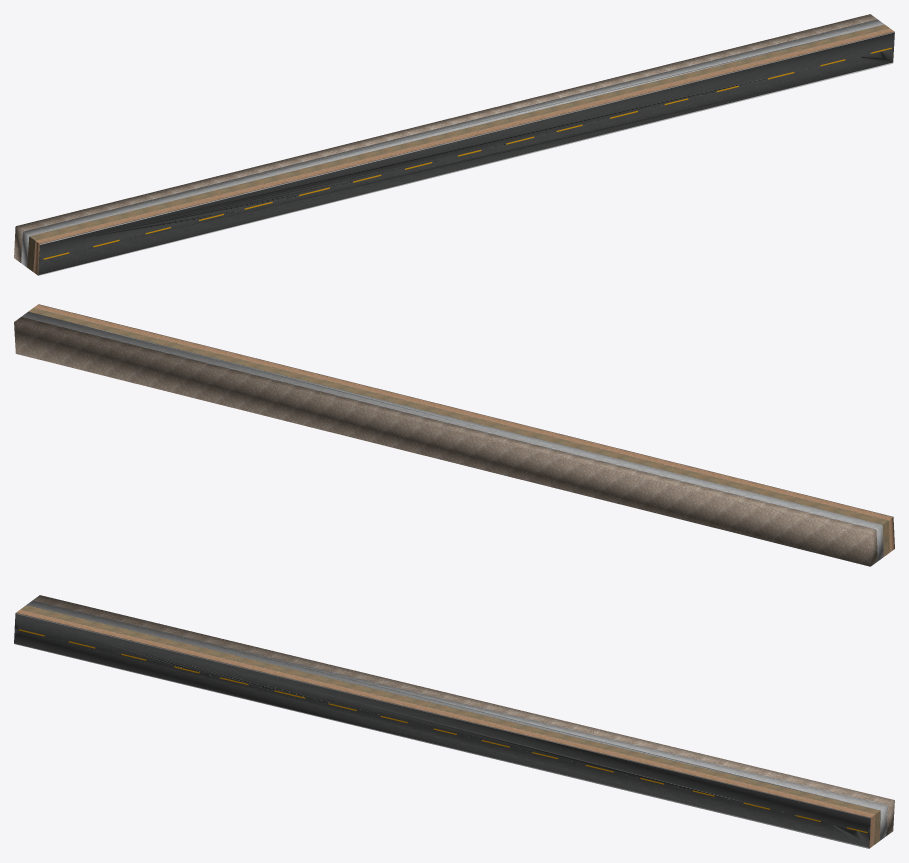
The picture shows the model from 3 angles, top to bottom: view 1: azimuth 30°, elevation 25°; view 2: azimuth 150°, elevation 25°; view 3: azimuth 330°, elevation 25°; orthographic projection.
Visible parts, largest first — view 1: baiyoulu, yunizhinaintu02, fenzhinaintu02, sutiantu02, xingchexianbai, xingchexianhuang; view 2: yunizhinaintu02, fenzhinaintu02, sutiantu02, baiyoulu; view 3: baiyoulu, yunizhinaintu02, fenzhinaintu02, sutiantu02, xingchexianbai, xingchexianhuang.
Part boxes in pixels (left/top/right/bottom): baiyoulu: left=38, top=31, right=894, bottom=275; yunizhinaintu02: left=14, top=14, right=884, bottom=267; fenzhinaintu02: left=27, top=24, right=889, bottom=271; sutiantu02: left=33, top=28, right=894, bottom=275; xingchexianbai: left=38, top=32, right=894, bottom=275; xingchexianhuang: left=43, top=47, right=891, bottom=259; yunizhinaintu02: left=14, top=311, right=883, bottom=566; fenzhinaintu02: left=28, top=308, right=889, bottom=556; sutiantu02: left=33, top=304, right=894, bottom=552; baiyoulu: left=38, top=304, right=894, bottom=548; baiyoulu: left=14, top=613, right=870, bottom=848; yunizhinaintu02: left=26, top=595, right=894, bottom=840; fenzhinaintu02: left=20, top=605, right=880, bottom=844; sutiantu02: left=16, top=609, right=875, bottom=848; xingchexianbai: left=14, top=613, right=870, bottom=848; xingchexianhuang: left=19, top=629, right=867, bottom=833.
Bounding box in the file's own units: 166 × 6.56 × 8.32.
Materials: 7 (7 with a texture image).
